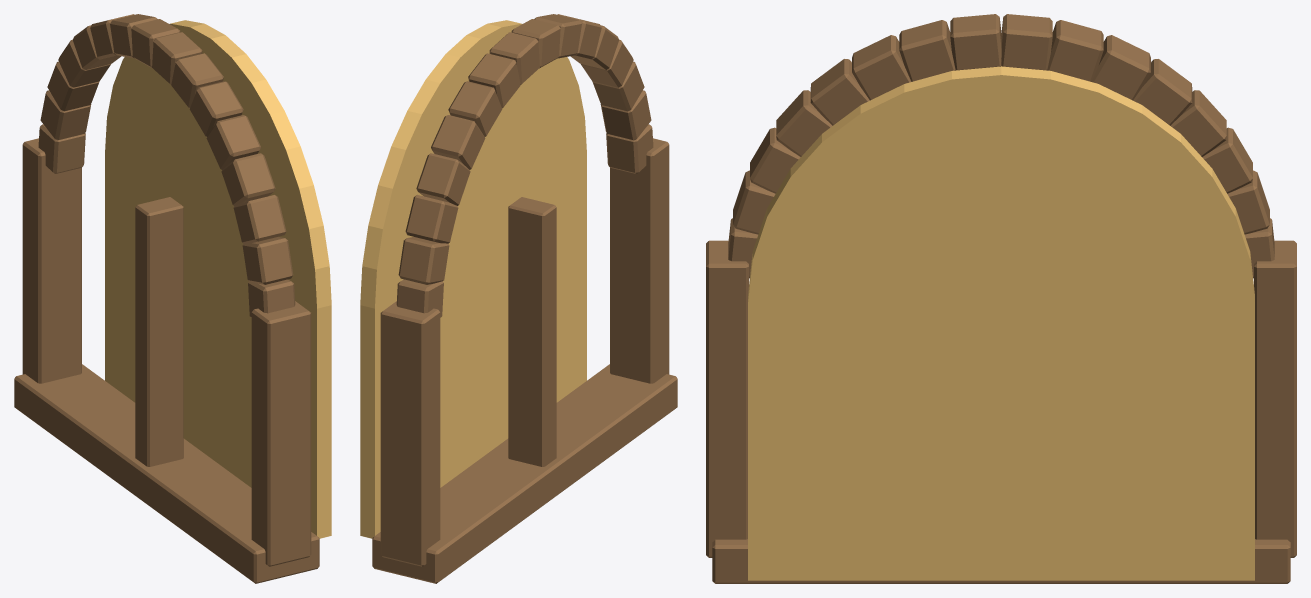
The model's file is SM_WL_WindowArch.fbx.
The picture shows the model from 3 angles, left to right: view 1: azimuth 30°, elevation 25°; view 2: azimuth 150°, elevation 25°; view 3: azimuth 270°, elevation 25°; orthographic projection. The views are drawn at different scales.
Visible parts, largest first — view 1: SM_WL_WindowArch; view 2: SM_WL_WindowArch; view 3: SM_WL_WindowArch.
Boxes of the visible parts, <box> form: SM_WL_WindowArch: <box>14,14,331,583</box>; SM_WL_WindowArch: <box>360,14,677,583</box>; SM_WL_WindowArch: <box>706,14,1296,583</box>.
Size of the model in its own units: 1.17 by 0.25 by 1.18.
